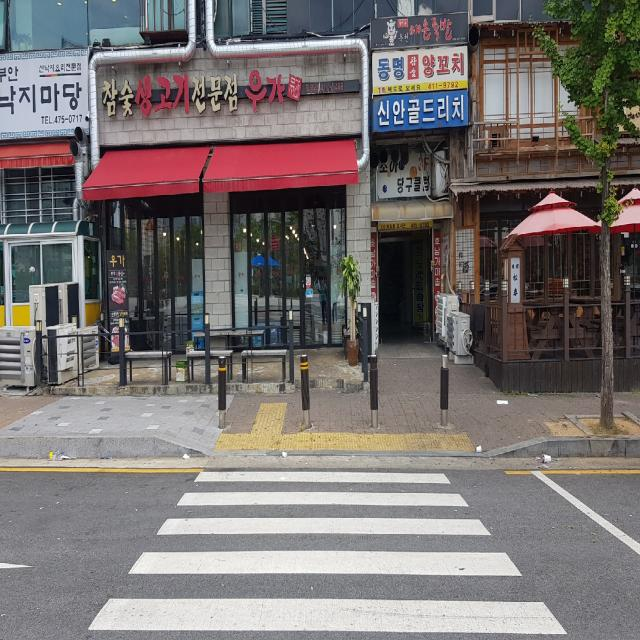횡단보도: (84, 463, 569, 637)
